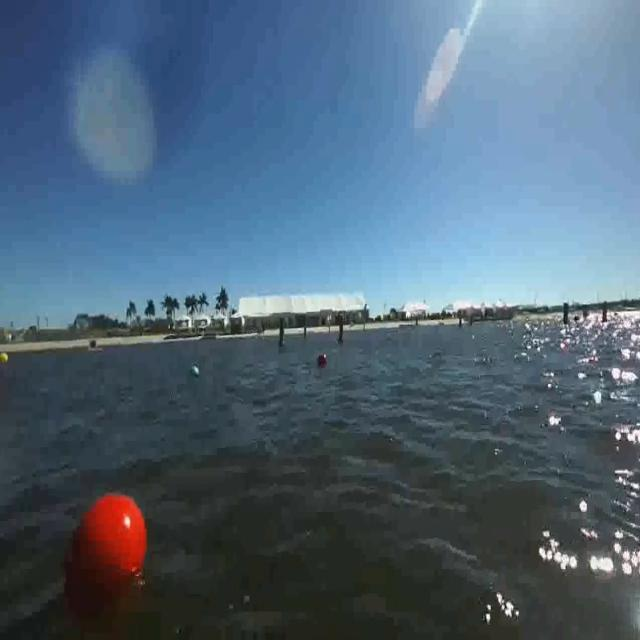black-buoy: (318, 353, 328, 367)
green-buoy: (191, 363, 200, 380)
green-column-buoy: (277, 318, 288, 349)
red-buoy: (61, 486, 157, 602)
yellow-buoy: (0, 350, 10, 366)
